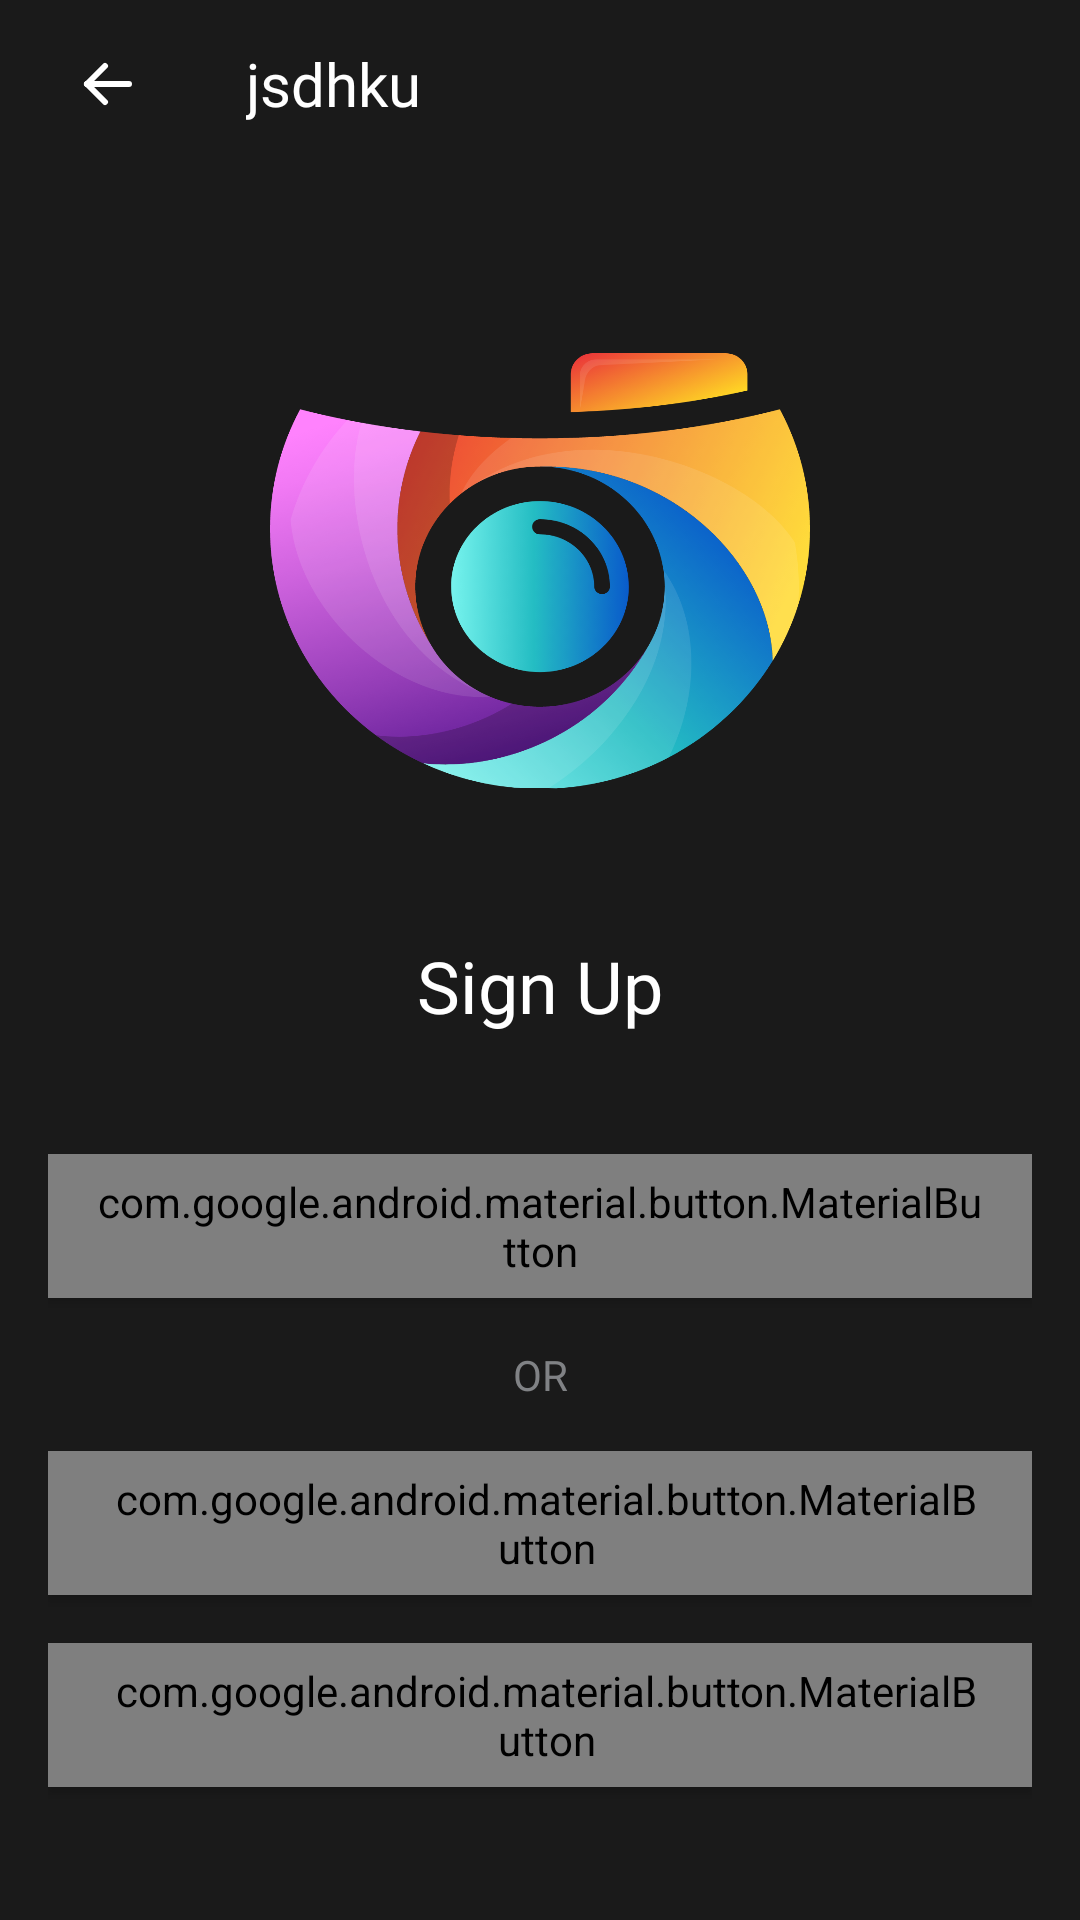

Locate icon controls on the screen. Image size 1080 x 1920, boxes as (left=x1, top=y1, right=x2, bottom=y2).
arrow left: (left=83, top=63, right=132, bottom=105)
